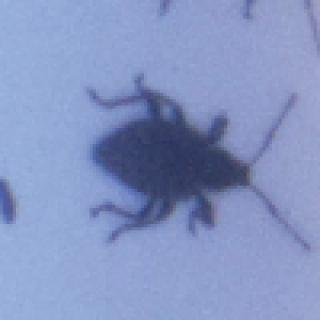bvw: (83, 72, 314, 256)
